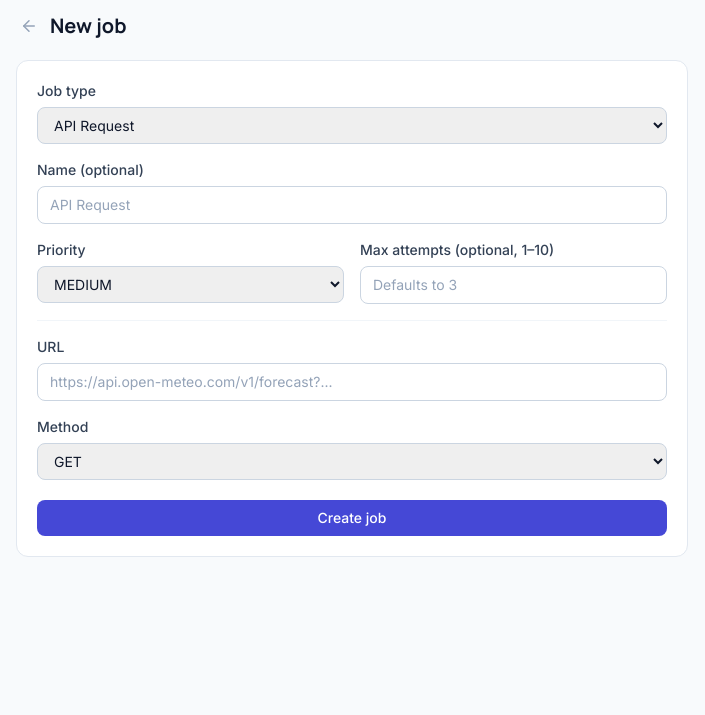
Test: JobCreatePage › switches to email-specific fields when EMAIL is selected
Select "Email" in the dropdown labelled "Job type" at (352, 126), box [37,107,667,144]
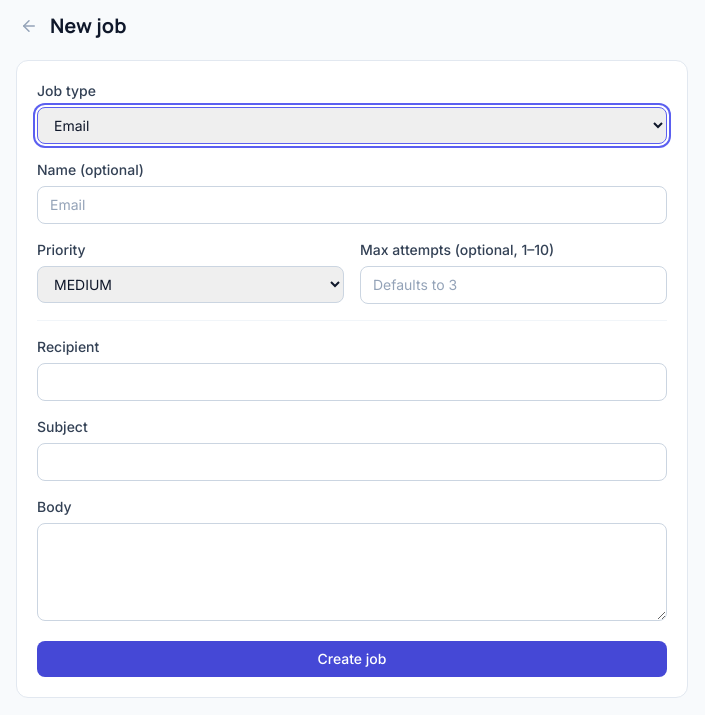
Expected: the field labelled "Subject" is shown, [37,443,667,481]
Expected: the text box labelled "Body" is shown, [37,523,667,621]
Expected: the text labelled "URL" is gone
